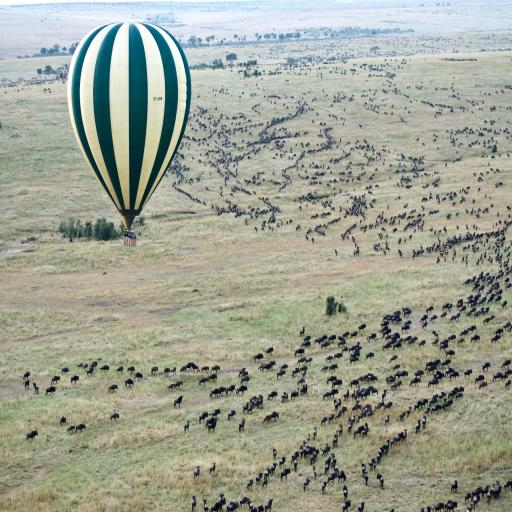hot air ballon: (67, 24, 190, 245)
